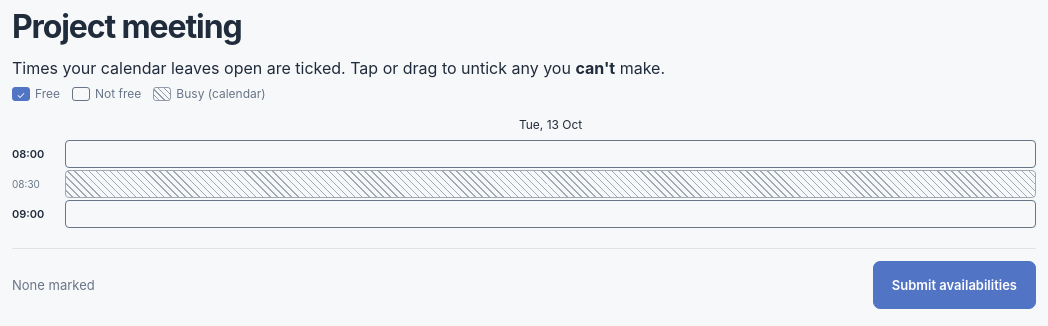
Test: MyTimes guidance › keeps a running total of free time, with no per-day buttons
Expected: the text "None marked" is shown, [12, 275, 95, 295]
Click the button named "08:00: not free". click: (551, 154)
box: [65, 140, 1036, 168]
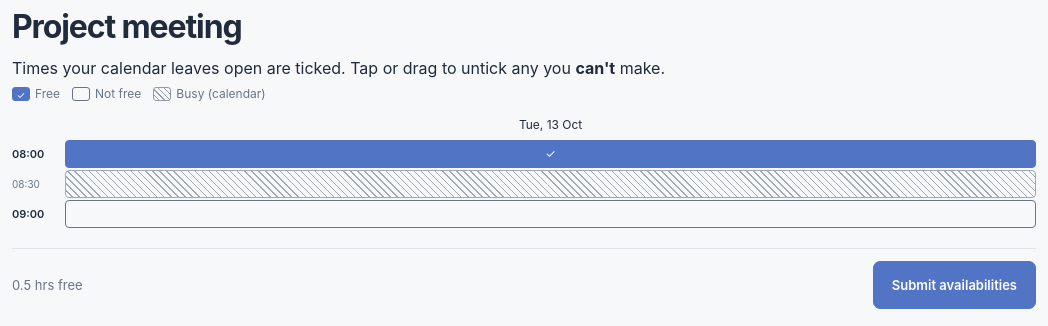
Click the button named "09:00: not free". click: (551, 214)
box: [65, 200, 1036, 228]
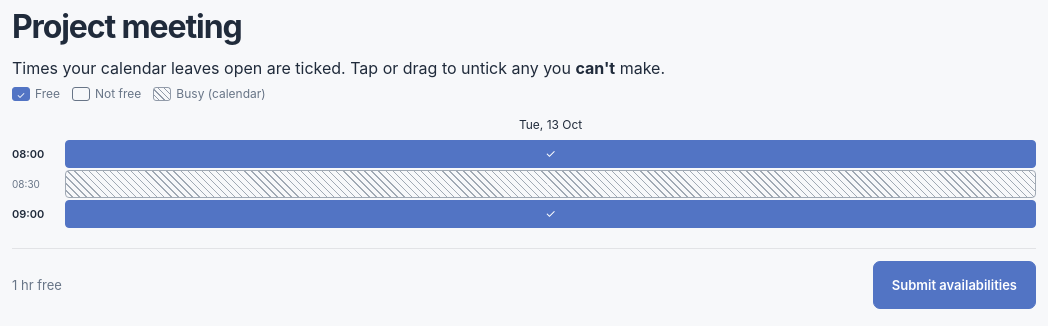
Expected: the text "1 hr free" is shown, [12, 275, 62, 295]
